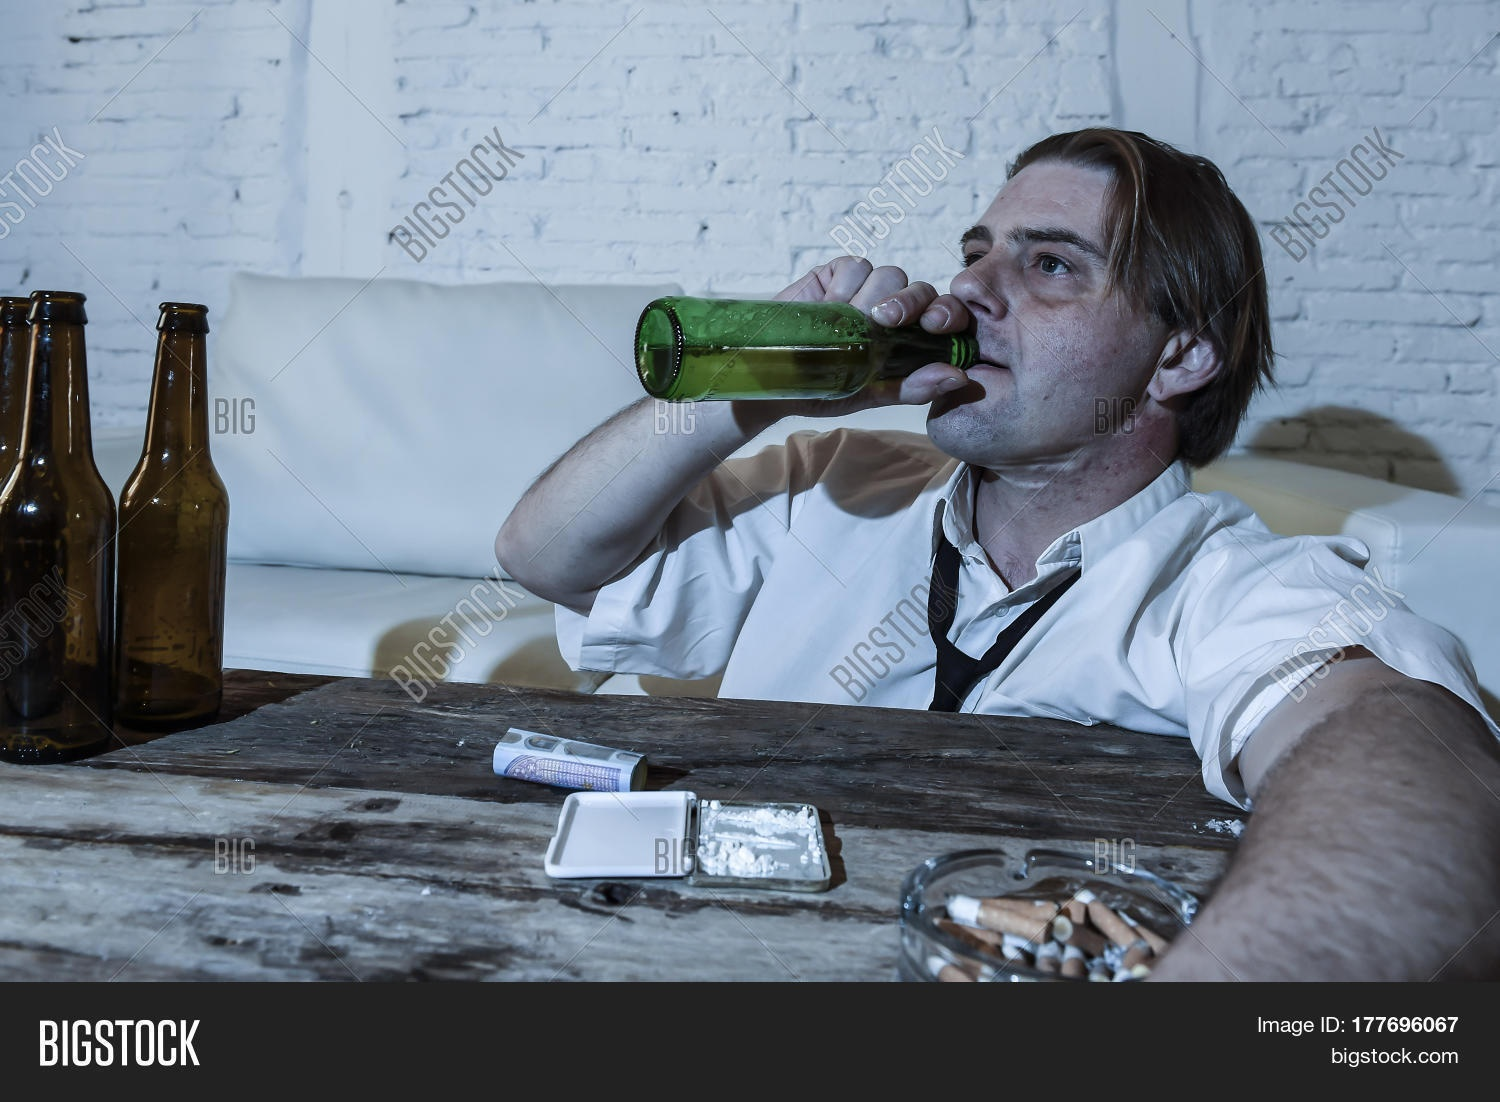beerBottle: (116, 301, 229, 730), (10, 294, 109, 751), (642, 301, 976, 415)
